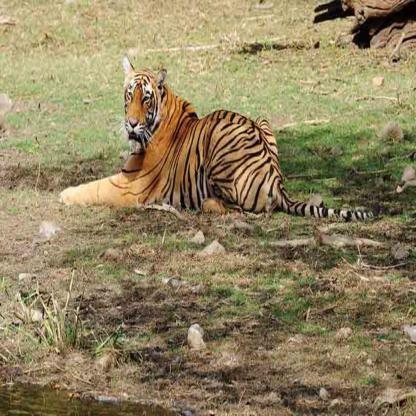Tiger: (59, 52, 374, 222)
